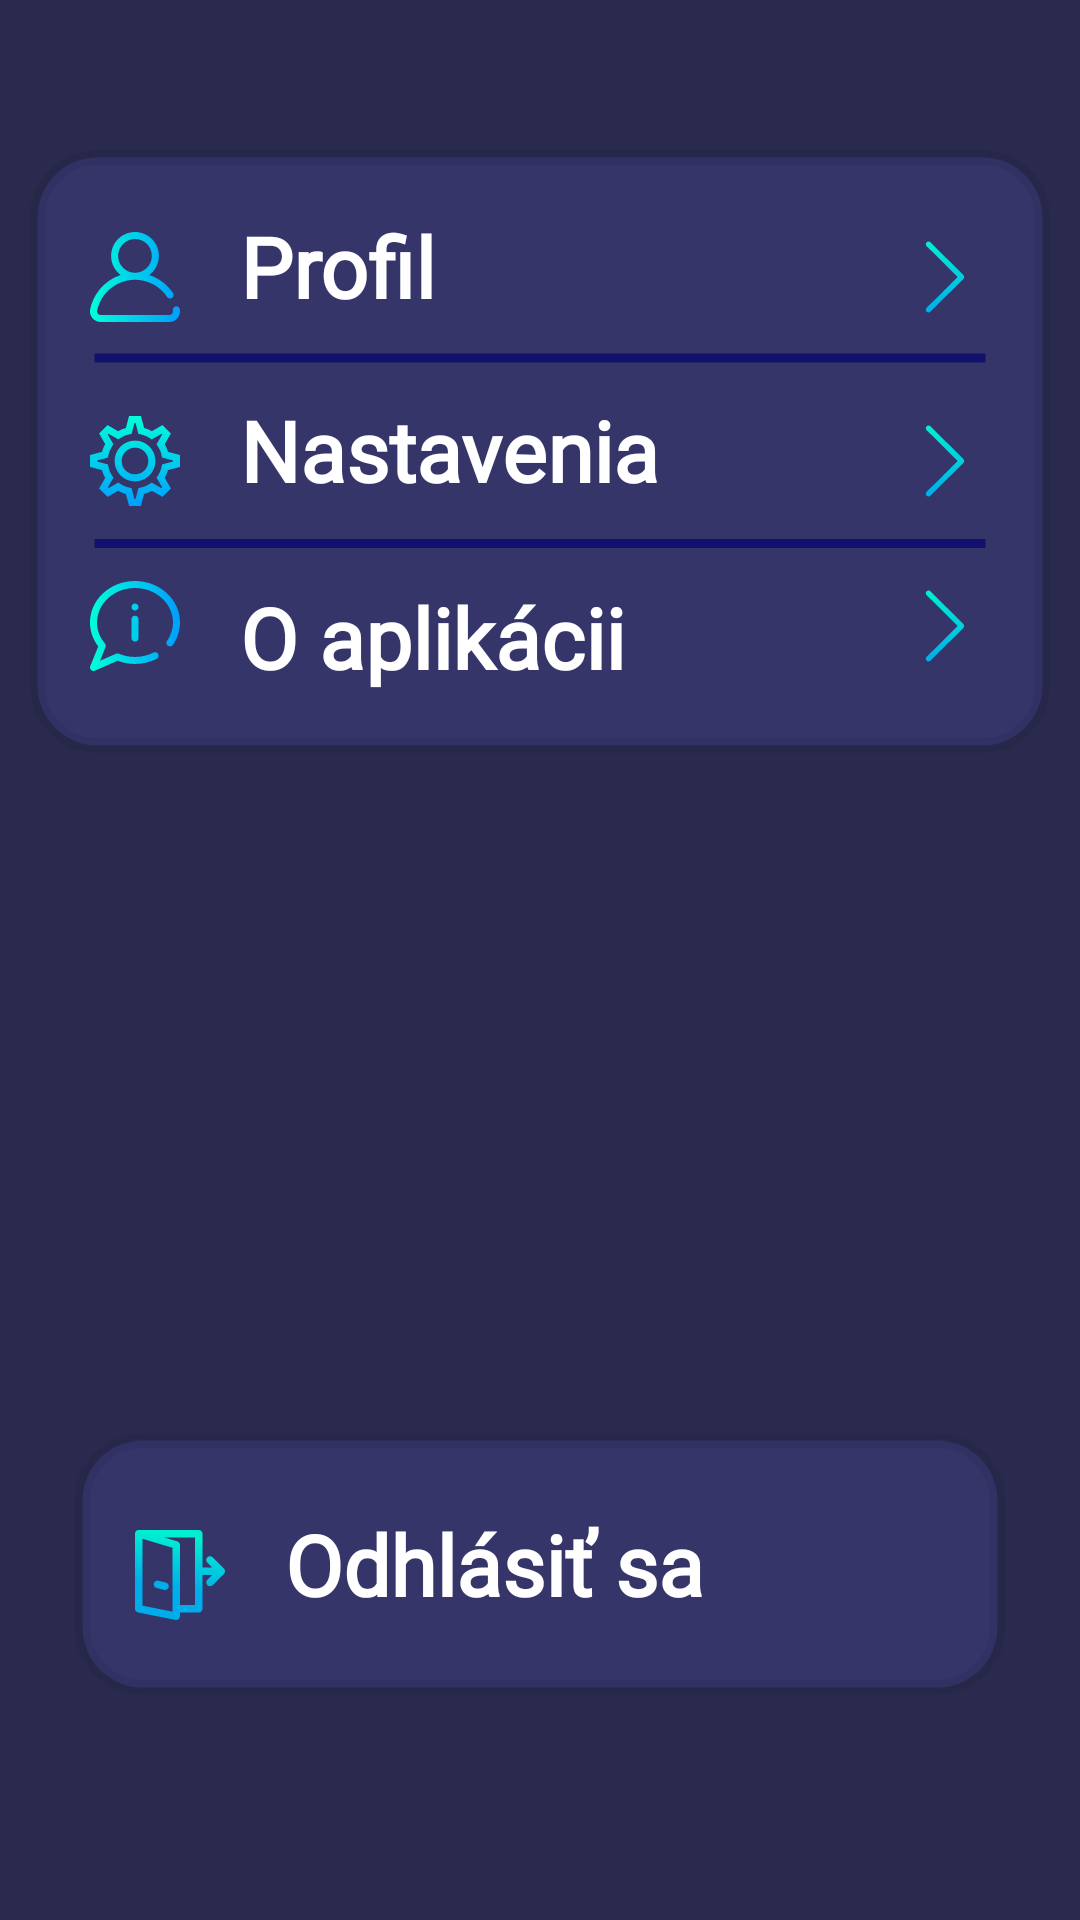

Icon bounding boxes for this 1080px x 1920px phone screenshot, format (x1, y1, x2, y2):
info: (90, 581, 180, 671)
next: (925, 241, 964, 313), (925, 425, 964, 497), (925, 590, 964, 662)
settings: (90, 416, 180, 506)
user: (90, 232, 180, 322)
